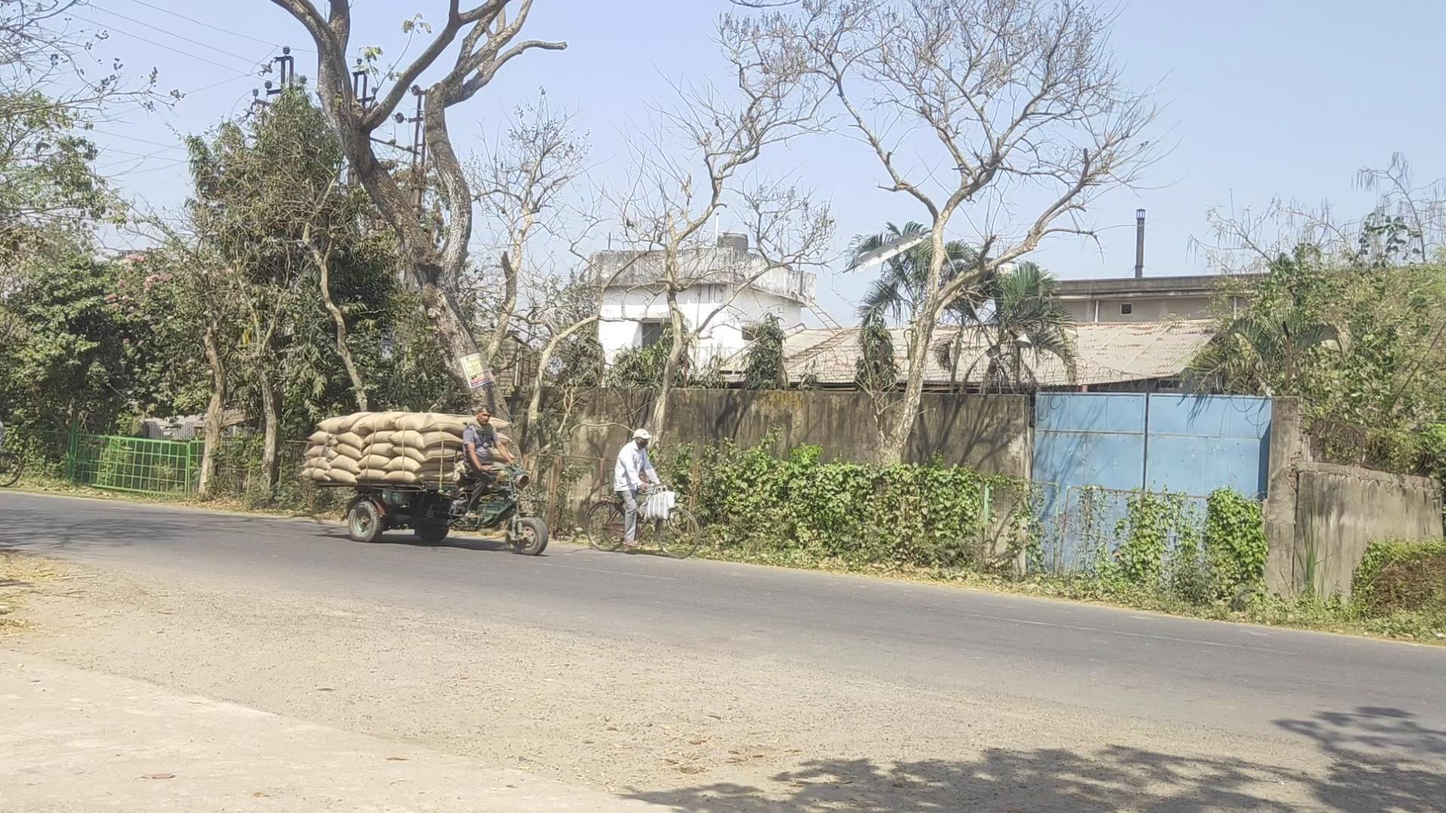bike: (585, 428, 699, 559)
